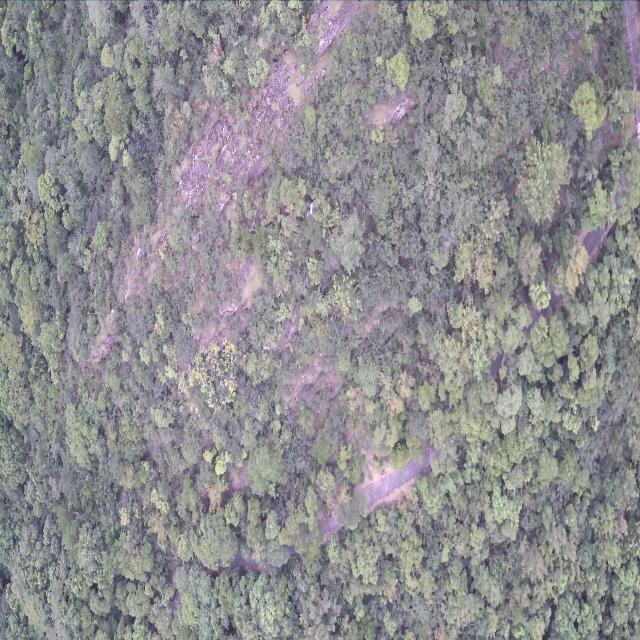UAV: (306, 200, 316, 218)
